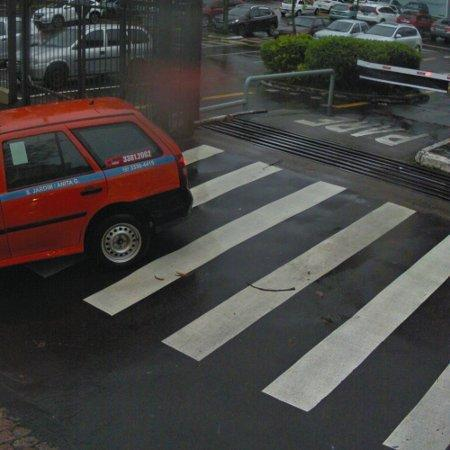crosswalks: (81, 142, 450, 450)
